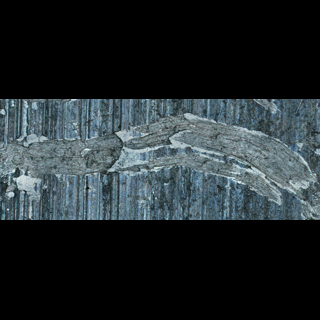d: (139, 110, 268, 182), (58, 118, 160, 180), (243, 138, 317, 216), (0, 125, 58, 208), (0, 99, 40, 119)
